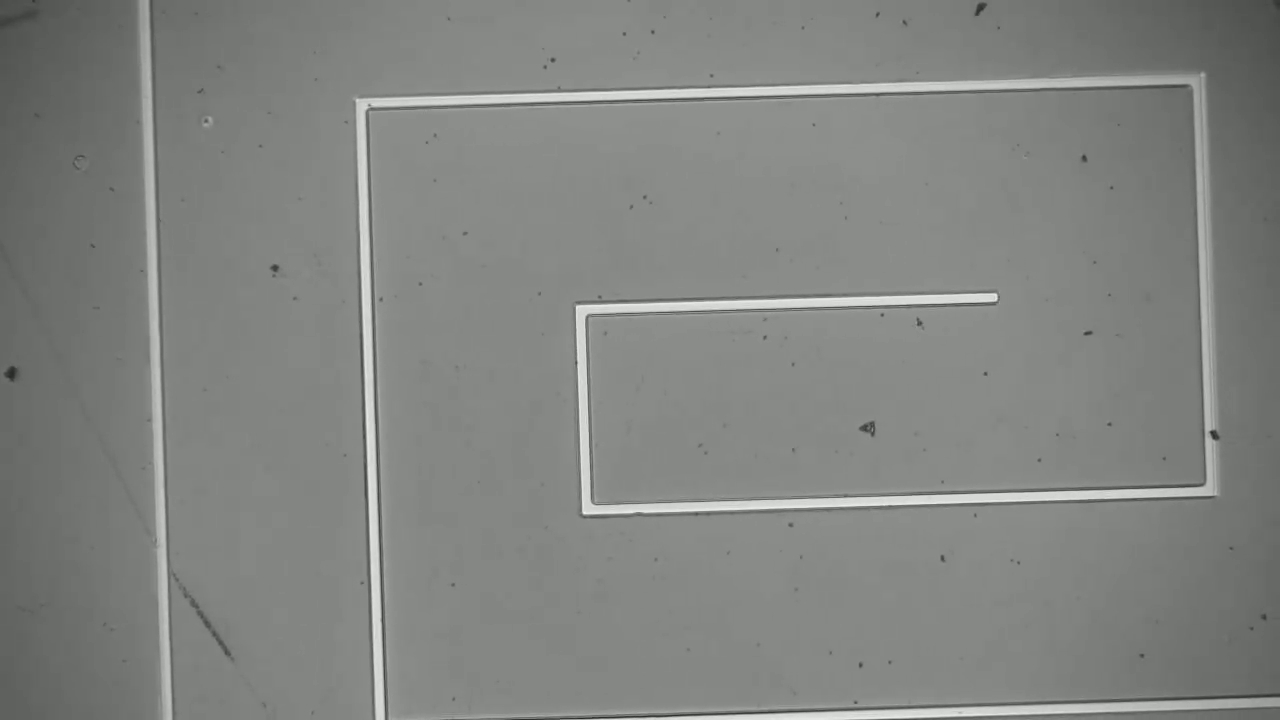scratch: (176, 577, 256, 687)
stains_enbedded: (1198, 419, 1231, 446)
